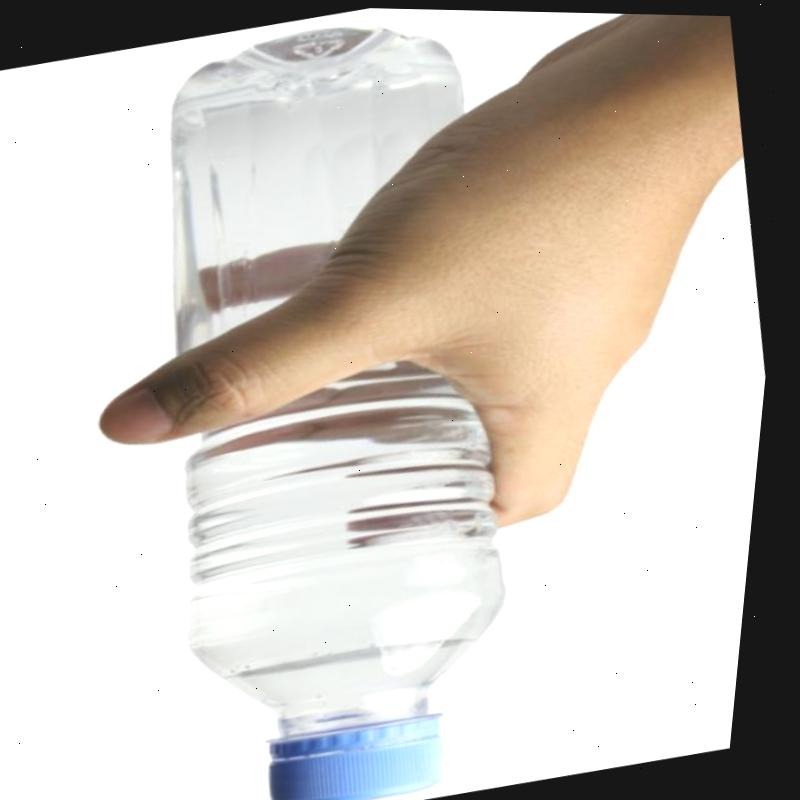botella: (79, 2, 603, 800)
